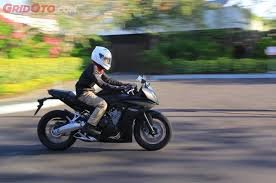motor: (33, 74, 171, 151)
